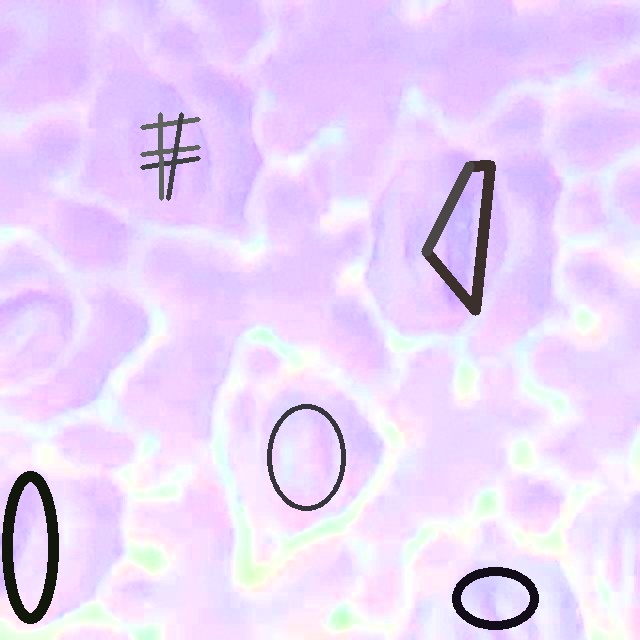close: (266, 404, 346, 510)
open: (421, 161, 495, 314), (3, 470, 58, 624), (451, 566, 539, 629), (141, 113, 200, 199)
